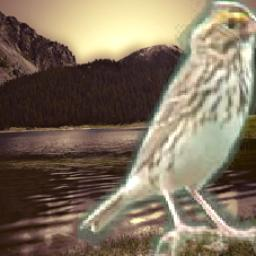Sparrow: (79, 0, 256, 256)
